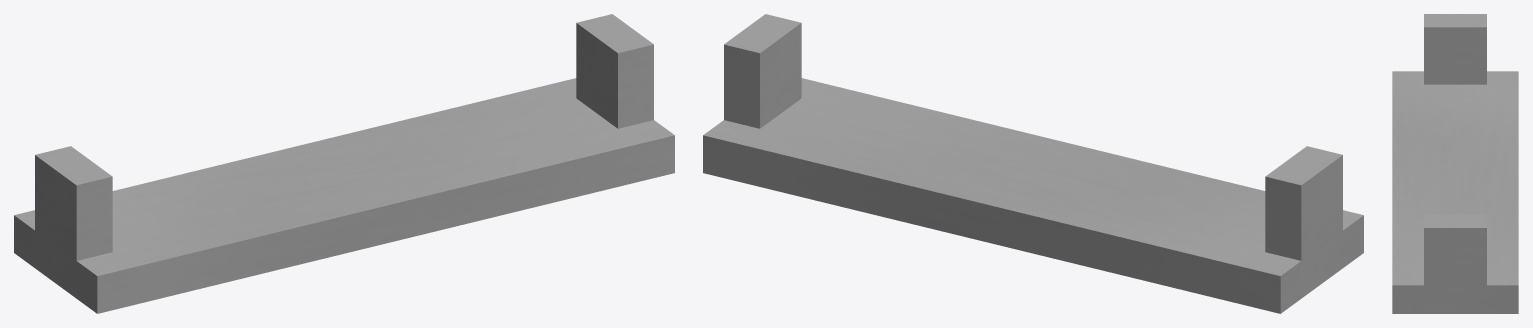
Rendered from fluorescent_light_base.obj.
3 views of the same model, side by side, from view 1: azimuth 30°, elevation 25°; view 2: azimuth 150°, elevation 25°; view 3: azimuth 270°, elevation 25° (orthographic). The views are drawn at different scales.
Visible parts, largest first — view 1: 0, 1, 2; view 2: 0, 1, 2; view 3: 0, 2, 1.
Part boxes in pixels (bbox=[...]): 0: bbox=[14, 78, 674, 313]; 1: bbox=[35, 146, 112, 260]; 2: bbox=[576, 14, 653, 128]; 0: bbox=[703, 78, 1363, 313]; 1: bbox=[1265, 146, 1342, 260]; 2: bbox=[724, 14, 801, 128]; 0: bbox=[1392, 71, 1518, 313]; 2: bbox=[1424, 214, 1486, 285]; 1: bbox=[1424, 14, 1486, 84].
Bounding box in the file's own units: 16 × 3 × 4.
